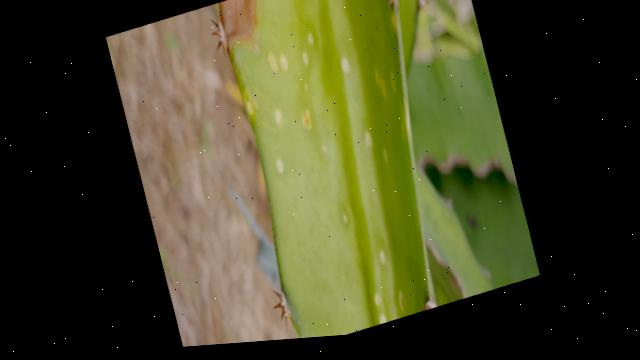stemcanker: (327, 195, 409, 322), (353, 63, 395, 178), (295, 24, 317, 98), (267, 48, 287, 81), (241, 92, 261, 123), (269, 154, 288, 185), (301, 108, 315, 136), (273, 110, 286, 134)
